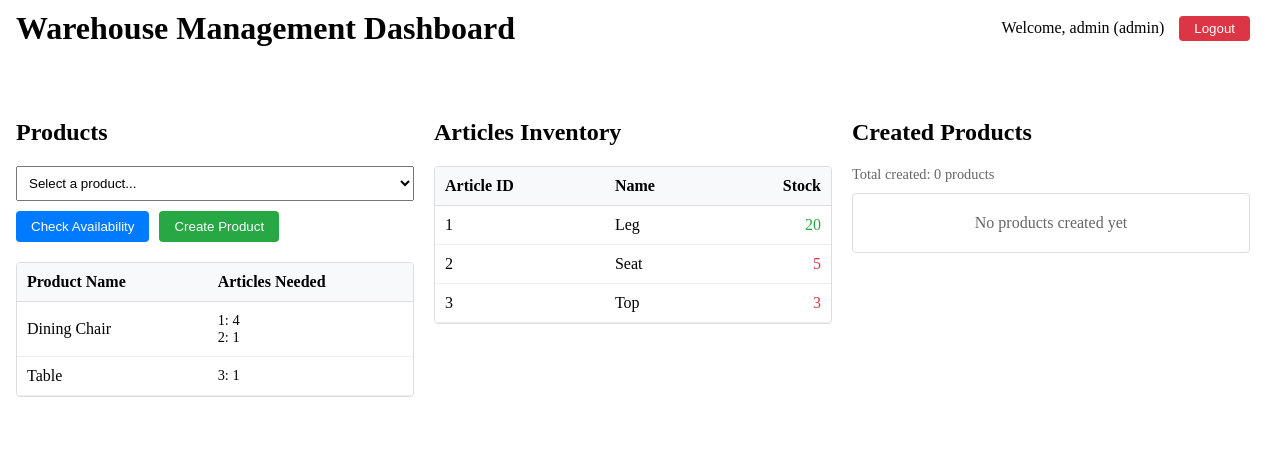
Scenario: Dashboard Component › shows insufficient stock message
This screenshot has width=1267, height=468.
Step 1. Select "Dining Chair" in the dropdown → point(215, 183), box [16,166,414,201]
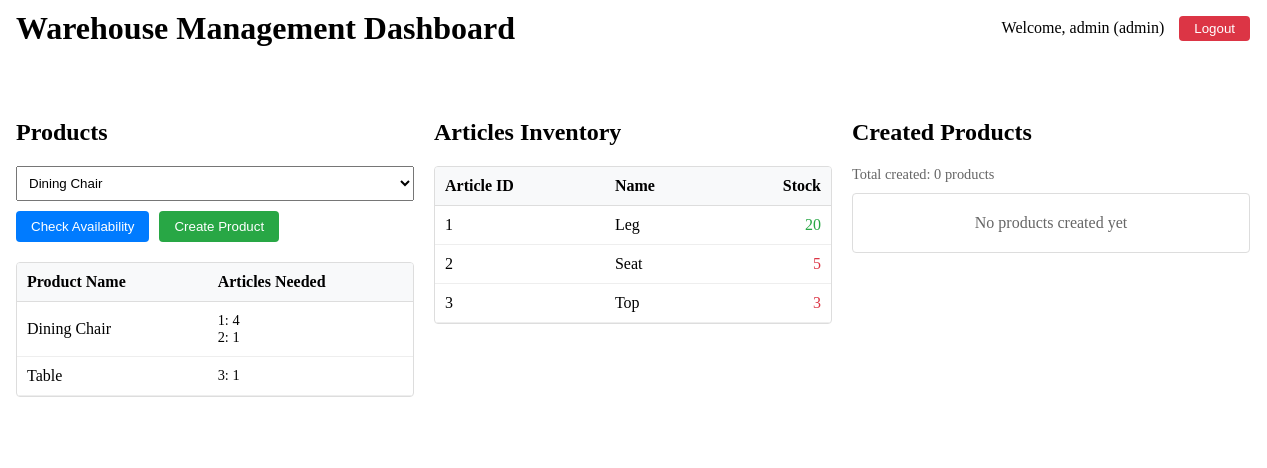
Step 2. Click the button "Check Availability" → point(83, 226), box [16,211,150,242]
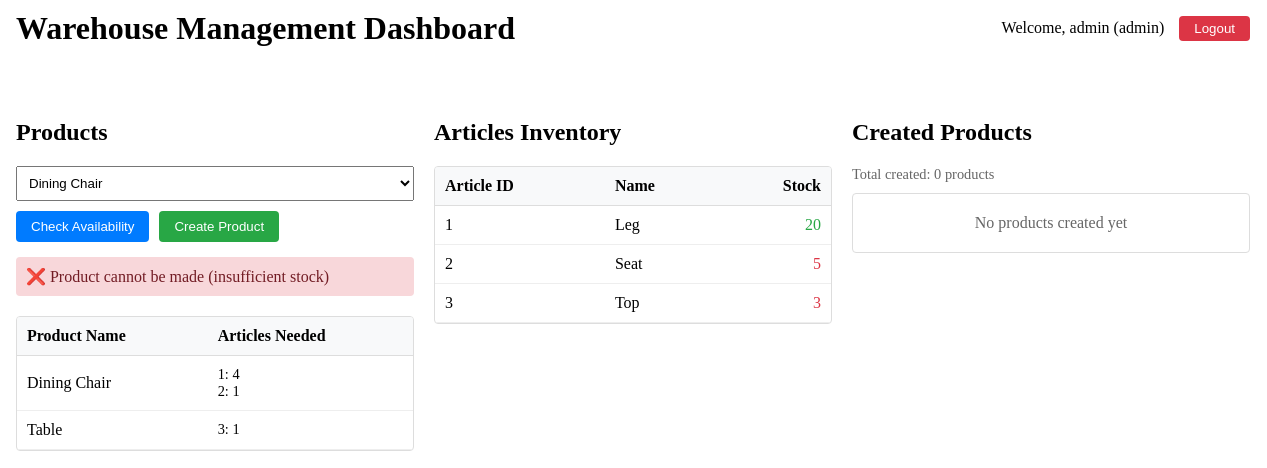
Check: the text "❌ Product cannot be made (insufficient stock)" is shown, box [16,257,414,296]
